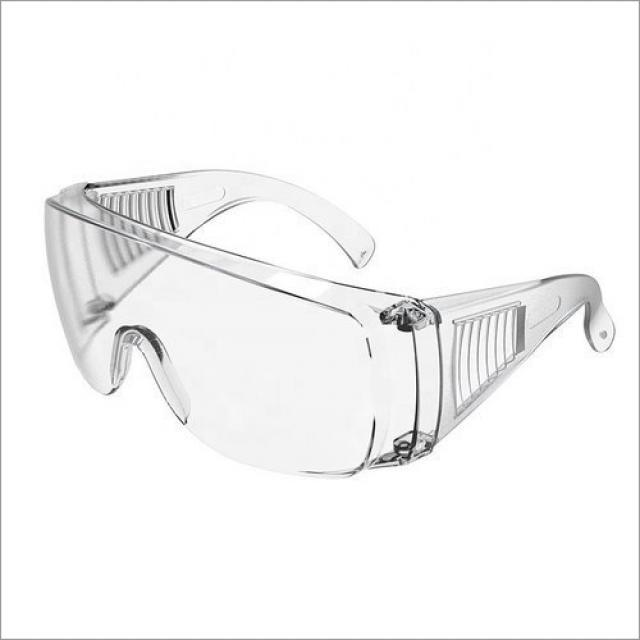goggles_on: (36, 167, 624, 486)
